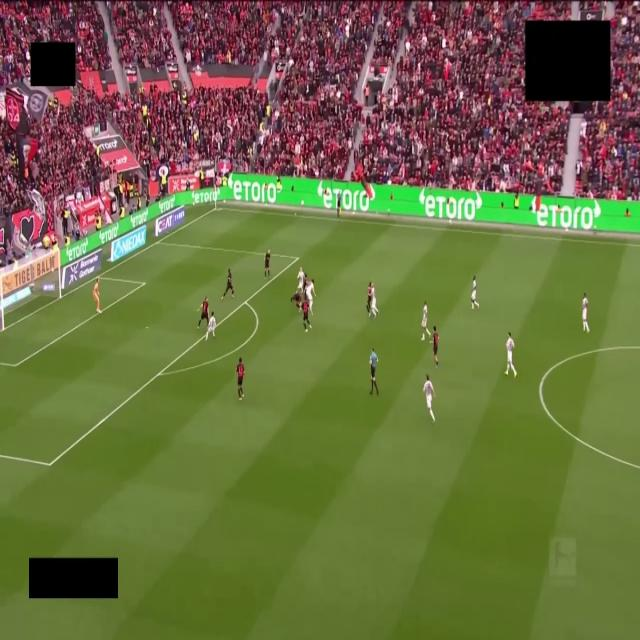player: (423, 374, 435, 423), (505, 333, 516, 376), (221, 269, 234, 300), (421, 301, 430, 341), (305, 279, 315, 314), (198, 297, 209, 328), (236, 358, 244, 400), (302, 298, 311, 332), (206, 312, 216, 340), (93, 278, 101, 313), (471, 276, 479, 311), (582, 293, 589, 332), (370, 282, 377, 318), (433, 326, 438, 368), (297, 267, 305, 292), (291, 291, 301, 311), (366, 282, 372, 315), (265, 250, 271, 279), (303, 273, 309, 295)
referee: (370, 348, 378, 394)
